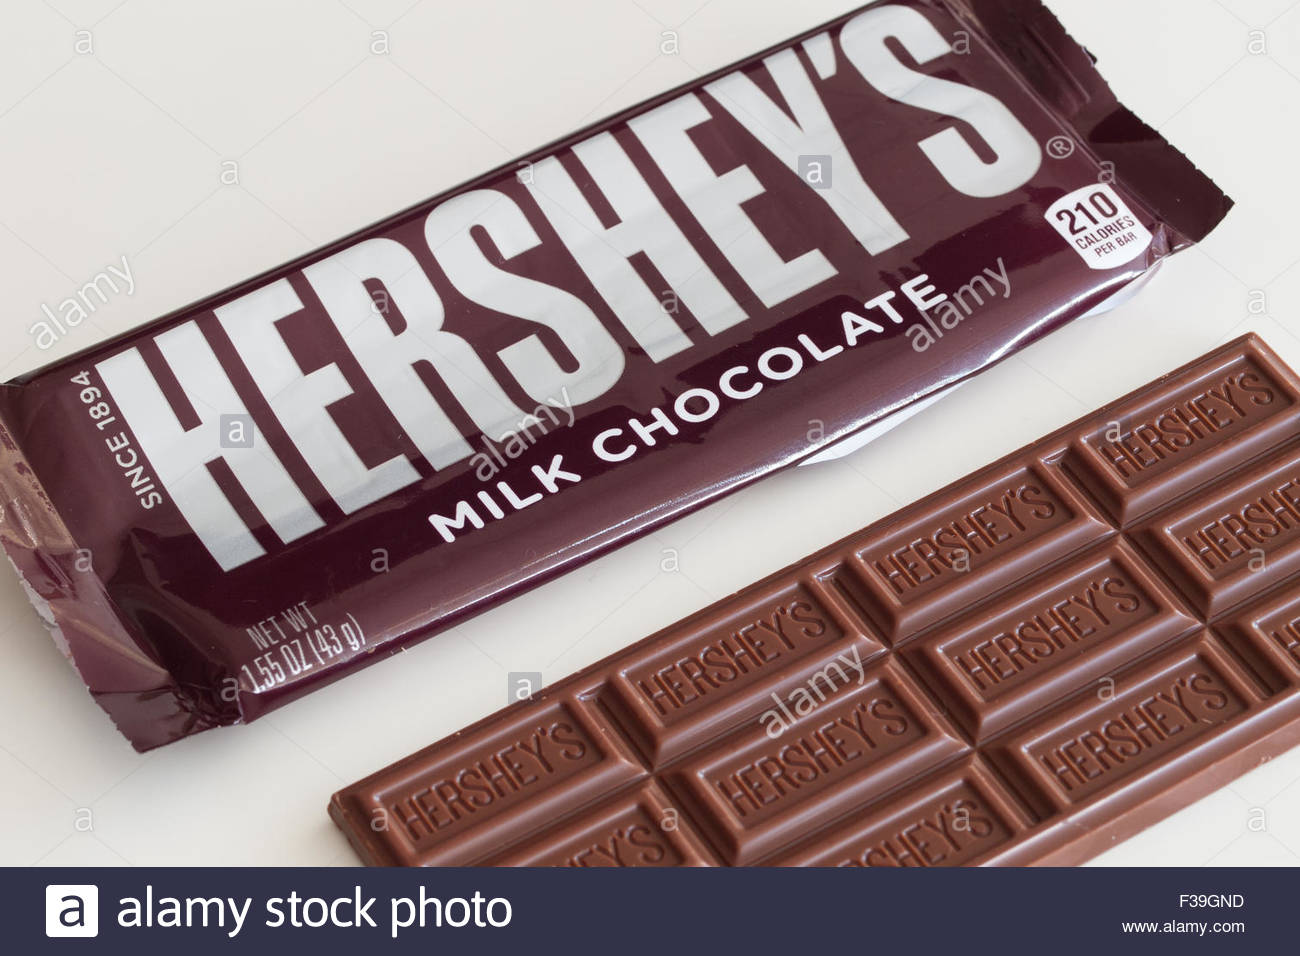hershey: (11, 3, 1230, 751)
